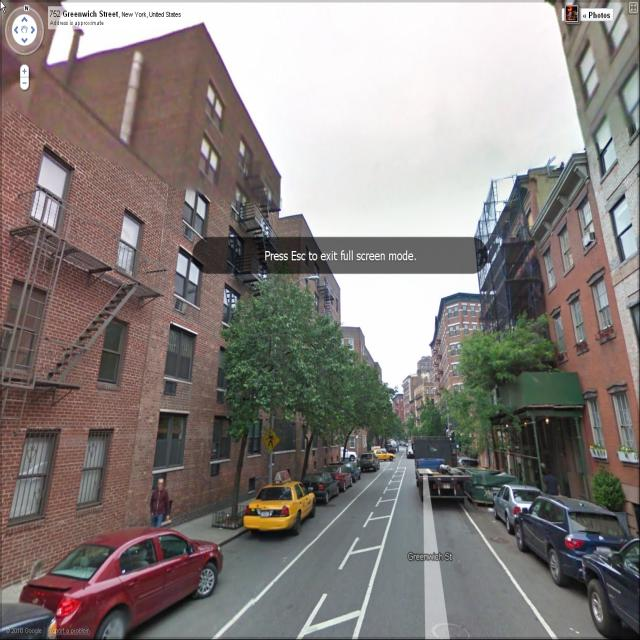b_1: (1, 74, 164, 538), (434, 291, 481, 390), (400, 354, 434, 428)
b_2: (140, 23, 276, 496), (542, 162, 640, 536), (478, 158, 564, 507), (268, 205, 356, 466), (323, 328, 392, 479)
